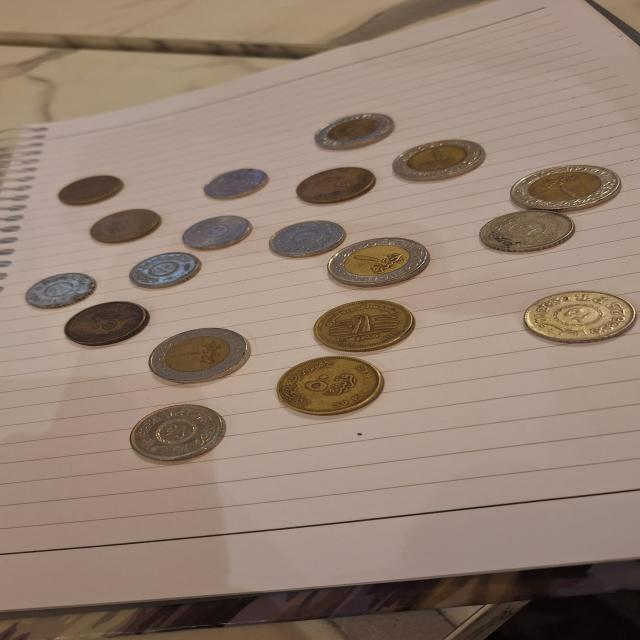Half Pound: (306, 297, 440, 354), (272, 356, 385, 413), (59, 302, 146, 348), (295, 164, 385, 205), (81, 206, 166, 244), (59, 173, 135, 204)
One Pound: (141, 328, 254, 388), (312, 241, 453, 287), (506, 161, 620, 213), (389, 137, 485, 182), (304, 110, 405, 151)
quarter pound: (127, 403, 229, 460), (517, 292, 633, 339), (264, 219, 354, 265), (476, 210, 578, 250), (127, 252, 207, 288), (25, 270, 103, 306), (187, 212, 250, 251), (206, 167, 271, 203)
